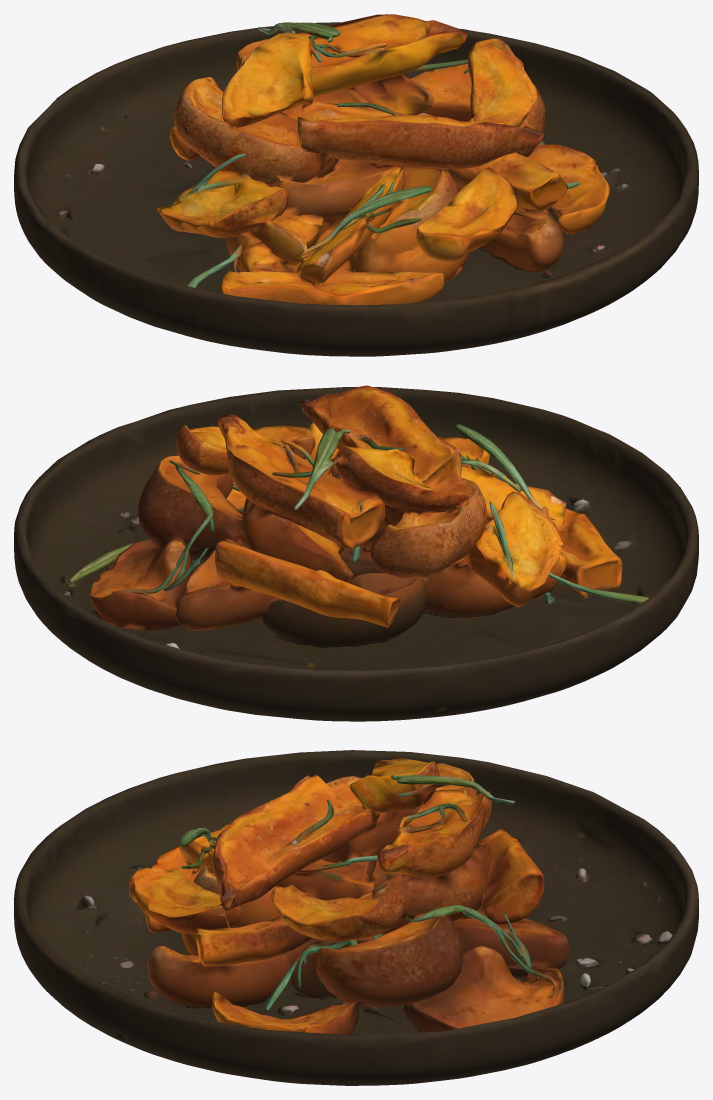
The model's file is sweet-potato.glb.
3 views of the same model, one above another, from view 1: azimuth 30°, elevation 25°; view 2: azimuth 150°, elevation 25°; view 3: azimuth 270°, elevation 25° (orthographic).
Visible parts, largest first — view 1: tripo_node_e0ce2519-4b3d-450c-87ef-be1e980c8d92; view 2: tripo_node_e0ce2519-4b3d-450c-87ef-be1e980c8d92; view 3: tripo_node_e0ce2519-4b3d-450c-87ef-be1e980c8d92.
Boxes of the visible parts, x1,y1,x2,y2 form: tripo_node_e0ce2519-4b3d-450c-87ef-be1e980c8d92: [14, 14, 698, 356]; tripo_node_e0ce2519-4b3d-450c-87ef-be1e980c8d92: [14, 385, 698, 721]; tripo_node_e0ce2519-4b3d-450c-87ef-be1e980c8d92: [14, 750, 698, 1085].
Bounding box in the file's own units: 0.9796 × 0.2904 × 0.9748.
Materials: 1 (1 with a texture image).
